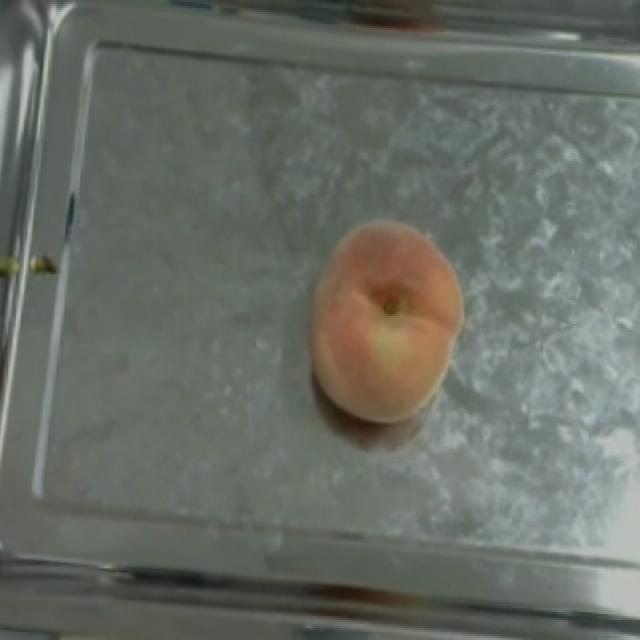Fruit: (294, 211, 478, 433)
